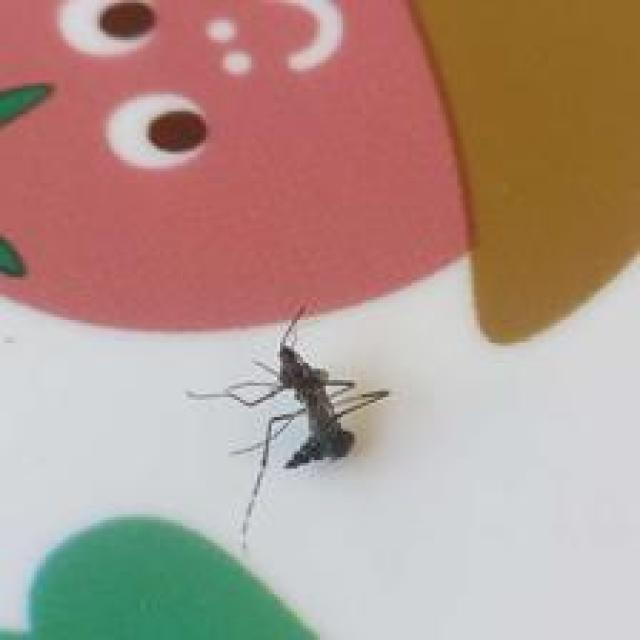Aedes albopictus: (186, 301, 391, 550)
